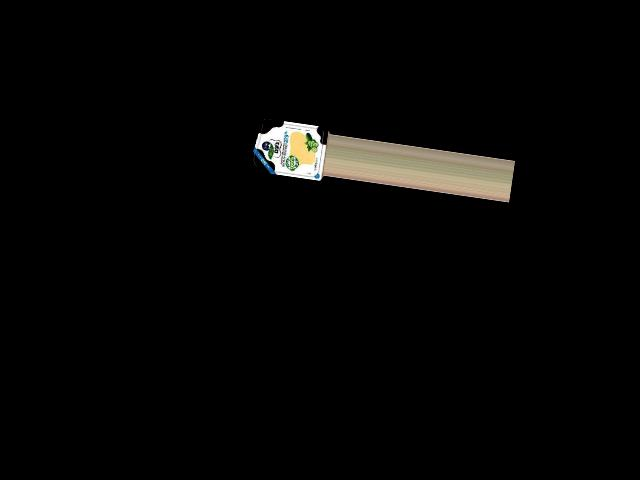cheese: (250, 114, 331, 184)
